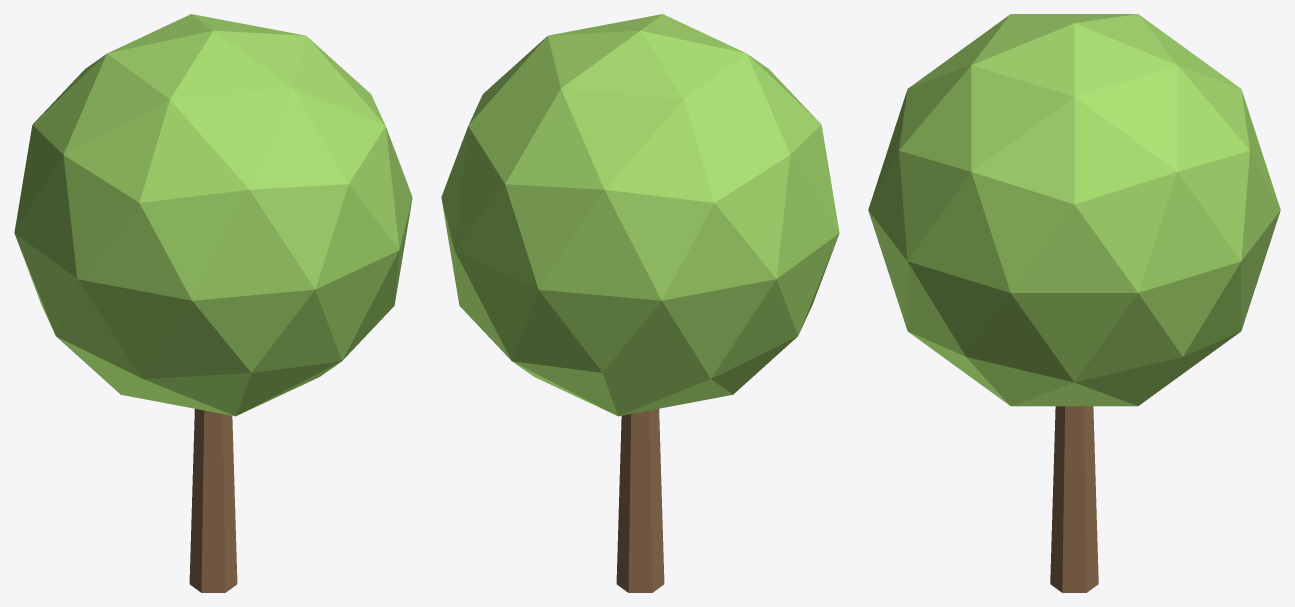
Rendered from Tree_11_Sapling.fbx.
3 renders of one model, left to right at view 1: azimuth 30°, elevation 25°; view 2: azimuth 150°, elevation 25°; view 3: azimuth 270°, elevation 25°, orthographic.
Visible parts, largest first — view 1: Tree_11_Sapling; view 2: Tree_11_Sapling; view 3: Tree_11_Sapling.
Boxes of the visible parts, left/top/right/bottom form: Tree_11_Sapling: left=14, top=14, right=412, bottom=592; Tree_11_Sapling: left=441, top=14, right=839, bottom=592; Tree_11_Sapling: left=868, top=14, right=1280, bottom=592.
Bounding box in the file's own units: 1.62 × 2.55 × 1.7.
